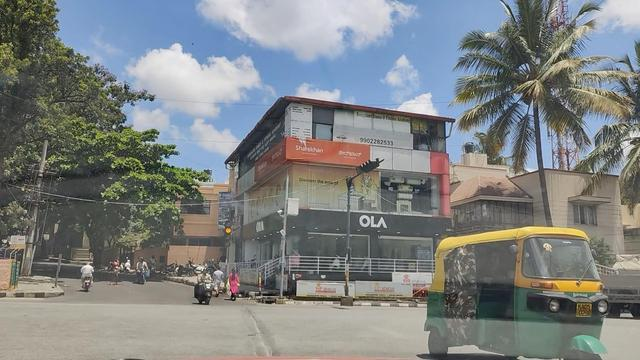RoadDamages: (431, 234, 597, 360), (232, 296, 278, 360)
